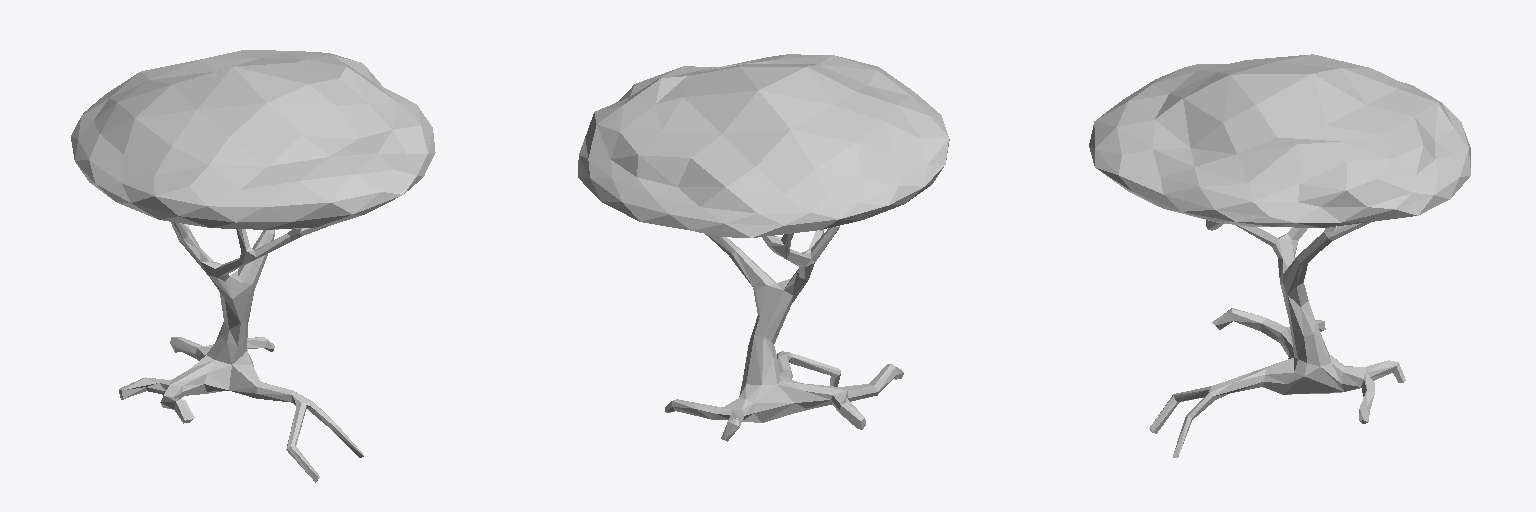
File: Tree.obj
The picture shows the model from 3 angles: view 1: azimuth 30°, elevation 25°; view 2: azimuth 150°, elevation 25°; view 3: azimuth 270°, elevation 25°; orthographic projection.
Parts seen in each view (by area): view 1: Cube_Cube.001; view 2: Cube_Cube.001; view 3: Cube_Cube.001.
Part boxes in pixels (bbox=[...]): Cube_Cube.001: bbox=[71, 50, 435, 482]; Cube_Cube.001: bbox=[578, 54, 949, 441]; Cube_Cube.001: bbox=[1089, 54, 1470, 457].
Bounding box in the file's own units: 2.42 × 2.62 × 2.53.